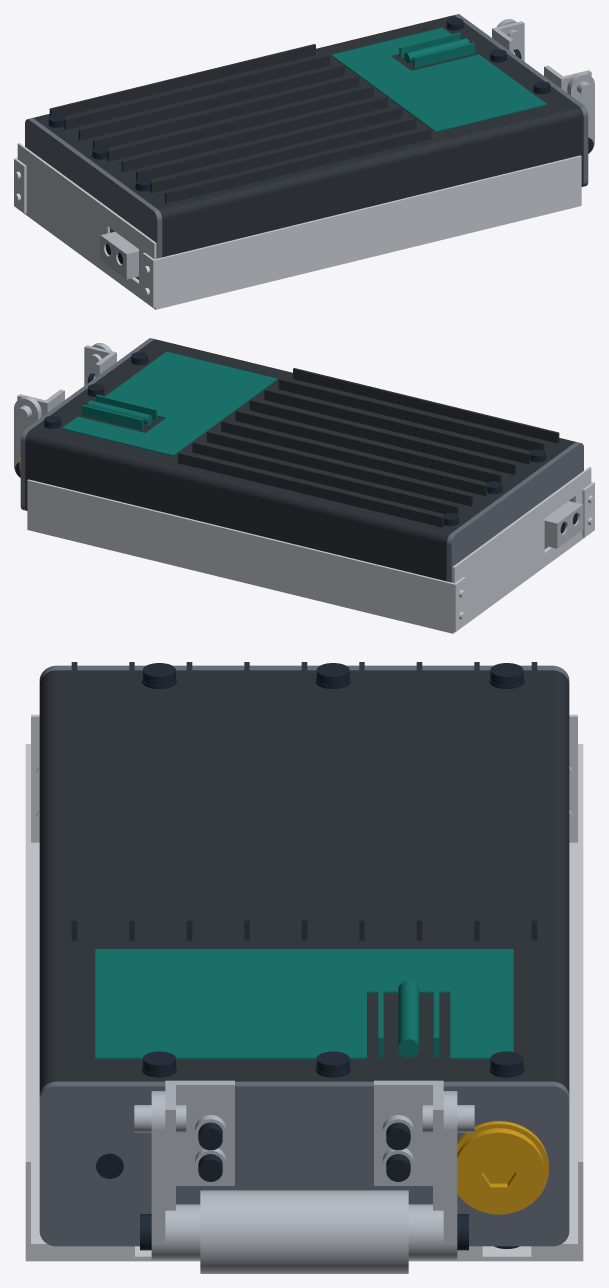
The picture shows the model from 3 angles, top to bottom: view 1: azimuth 30°, elevation 25°; view 2: azimuth 150°, elevation 25°; view 3: azimuth 270°, elevation 25°; orthographic projection. The views are drawn at different scales.
Parts seen in each view (by area): view 1: Cartridge shell, finned aluminium tube, matte black, Cabinet adapter frame, Grade label, melt indicator and guards, End cap, keyed end, Handle (folding bail) and keyed nose, Screws, bolts and seals, Keyed nose, End caps with O-ring seals (2); view 2: Cartridge shell, finned aluminium tube, matte black, Cabinet adapter frame, Grade label, melt indicator and guards, End cap, keyed end, Handle (folding bail) and keyed nose, Screws, bolts and seals, Keyed nose, End caps with O-ring seals (2); view 3: Cartridge shell, finned aluminium tube, matte black, End caps with O-ring seals (2), Grade label, melt indicator and guards, Handle (folding bail) and keyed nose, Cabinet adapter frame, Screws, bolts and seals, Fill port plug and seal, End cap, keyed end.
Boxes of the visible parts, x1,y1,x2,y2 form: Cartridge shell, finned aluminium tube, matte black: (33,15,583,257); Cabinet adapter frame: (14,143,581,309); Grade label, melt indicator and guards: (331,27,546,131); End cap, keyed end: (25,118,162,279); Handle (folding bail) and keyed nose: (492,19,594,153); Screws, bolts and seals: (48,17,593,264); Keyed nose: (100,231,138,279); End caps with O-ring seals (2): (454,14,588,186); Cartridge shell, finned aluminium tube, matte black: (25,339,575,581); Cabinet adapter frame: (27,467,594,633); Grade label, melt indicator and guards: (62,351,277,455); End cap, keyed end: (446,442,583,582); Handle (folding bail) and keyed nose: (14,343,116,477); Screws, bolts and seals: (15,352,577,533); Keyed nose: (544,501,583,548); End caps with O-ring seals (2): (20,338,154,510); Cartridge shell, finned aluminium tube, matte black: (39,662,569,1094); End caps with O-ring seals (2): (39,1081,569,1246); Grade label, melt indicator and guards: (95,949,513,1059); Handle (folding bail) and keyed nose: (134,1080,474,1273); Cabinet adapter frame: (25,714,583,1261); Screws, bolts and seals: (96,663,524,1250); Fill port plug and seal: (457,1121,548,1214); End cap, keyed end: (39,665,569,682).
Size of the model in its own units: 0.3233 by 0.065 by 0.1604.
